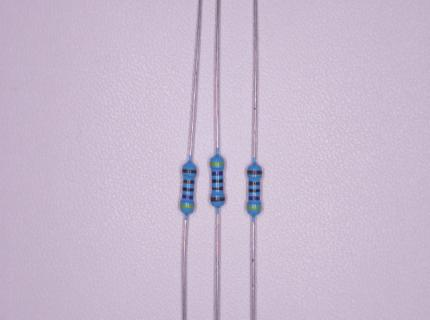Black band: (212, 179, 223, 184), (183, 187, 194, 191), (249, 189, 260, 193)
Brown band: (182, 169, 197, 174), (247, 170, 261, 175), (211, 197, 224, 202), (183, 179, 194, 184), (249, 181, 260, 186), (212, 186, 223, 190)
Violet band: (182, 194, 193, 199), (212, 171, 223, 176), (249, 196, 260, 201)
Yellow band: (210, 161, 225, 165), (180, 205, 194, 209), (247, 206, 261, 210)
